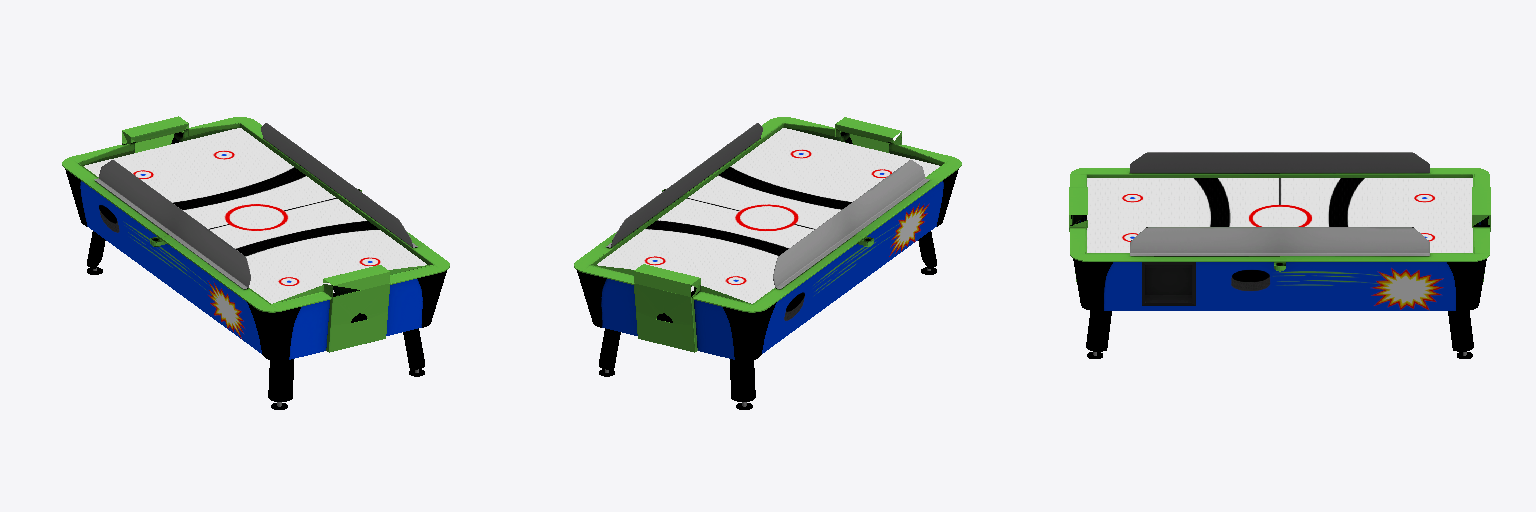
The picture shows the model from 3 angles: view 1: azimuth 30°, elevation 25°; view 2: azimuth 150°, elevation 25°; view 3: azimuth 270°, elevation 25°; orthographic projection.
Parts seen in each view (by area): view 1: object_0; view 2: object_0; view 3: object_0.
Boxes of the visible parts, <box> form: object_0: <box>62,116,449,409</box>; object_0: <box>574,117,961,409</box>; object_0: <box>1069,152,1490,358</box>.
Size of the model in its own units: 149 by 89.78 by 259.
Materials: 1 (1 with a texture image).